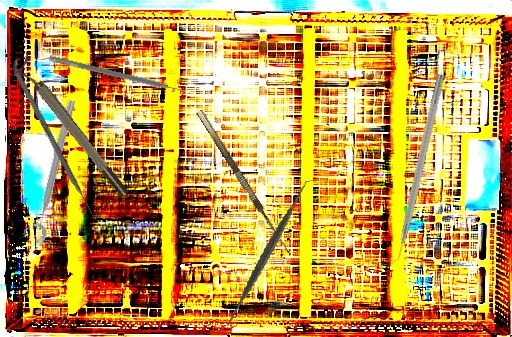Chopper: (381, 71, 446, 270)
Fixation Ring: (9, 51, 131, 204), (20, 96, 80, 245)
Hook Surgical: (196, 104, 300, 258)
Pusher: (12, 68, 100, 226)
Spatula Surgical: (194, 179, 341, 328), (47, 55, 189, 99)
